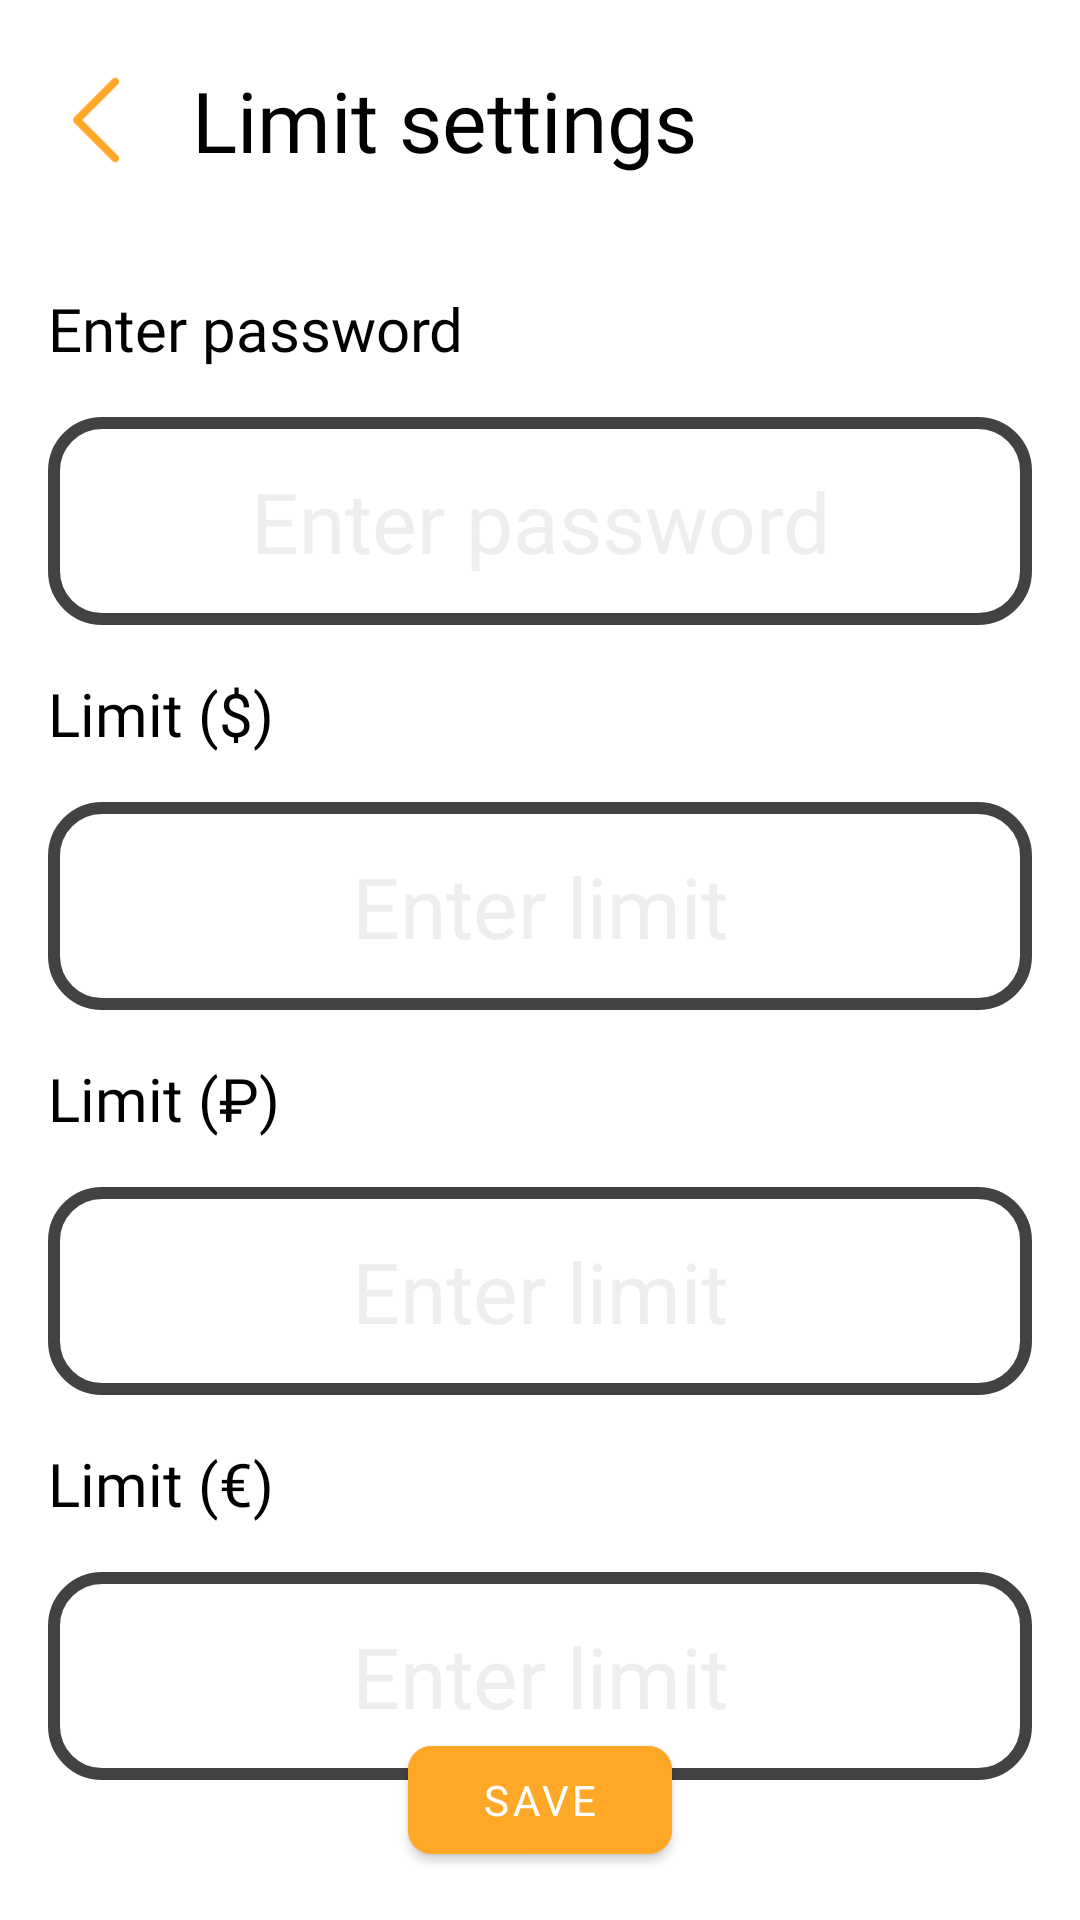

Screen size 1080×1920. Icon name, then its center in pixels as point (x, y):
back button: point (96, 120)
